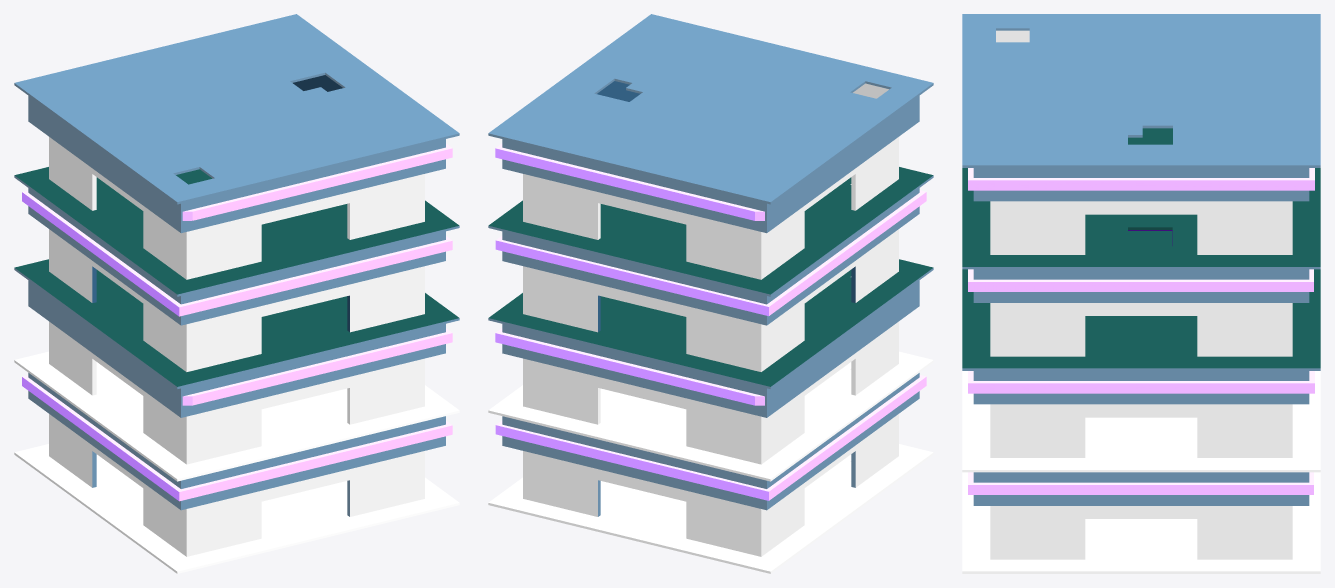
Rendered from DragonBuilding_LightenUp_2.gltf.
3 renders of one model, left to right at view 1: azimuth 30°, elevation 25°; view 2: azimuth 150°, elevation 25°; view 3: azimuth 270°, elevation 25°, orthographic. The views are drawn at different scales.
Parts seen in each view (by area): view 1: Wall Outline.037; view 2: Wall Outline.037; view 3: Wall Outline.037.
Part boxes in pixels (box(x1,y1,x2,y2)): Wall Outline.037: box(14, 14, 459, 573); Wall Outline.037: box(488, 14, 933, 573); Wall Outline.037: box(962, 14, 1320, 573).
Size of what is drawn, in the model's own units: 32 by 40.25 by 32.
